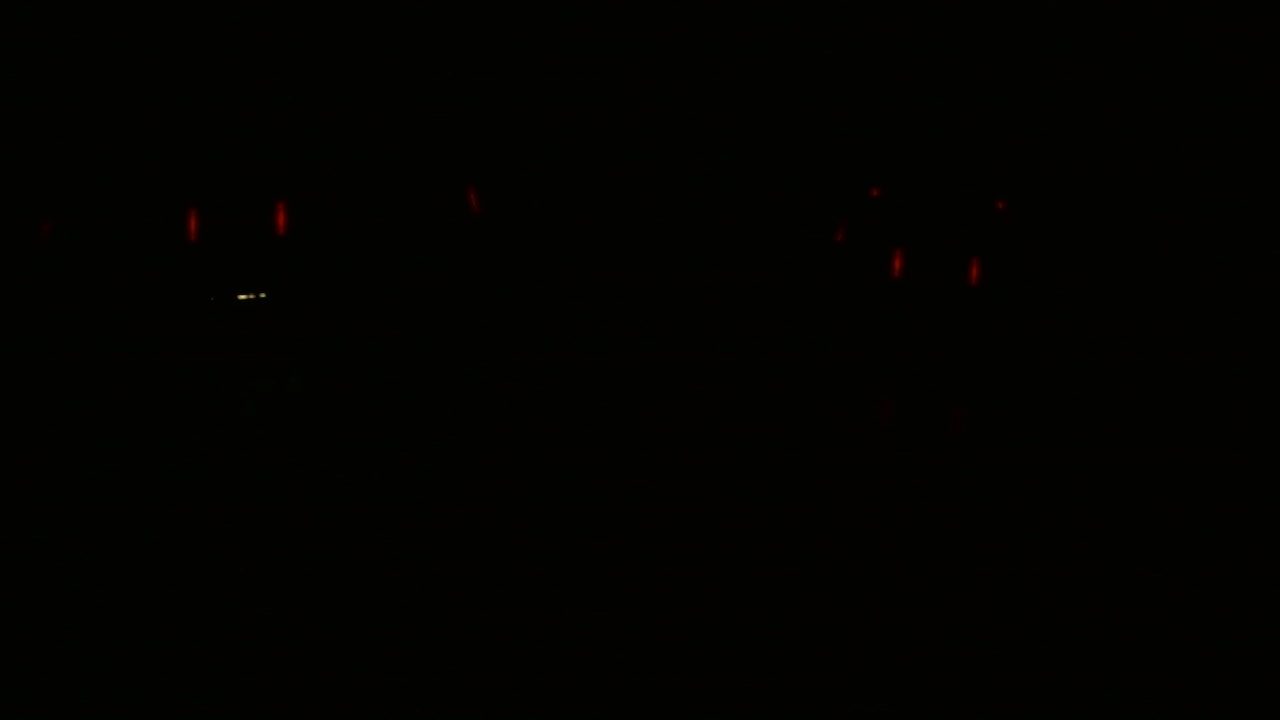pair1: (176, 192, 298, 256)
pair2: (880, 242, 992, 299)
